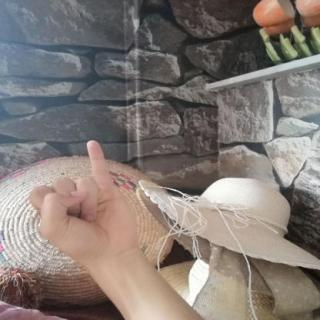MEEM: (21, 135, 145, 267)
